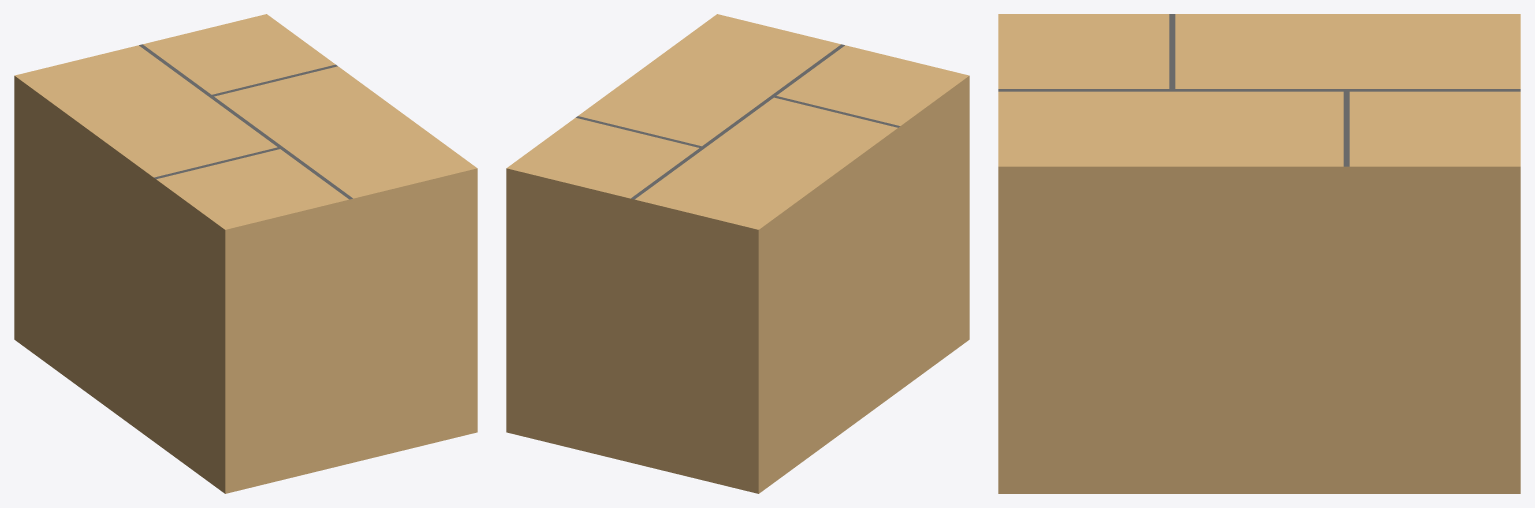
3 views of the same model, side by side, from view 1: azimuth 30°, elevation 25°; view 2: azimuth 150°, elevation 25°; view 3: azimuth 270°, elevation 25° (orthographic). The views are drawn at different scales.
Parts seen in each view (by area): view 1: Cube; view 2: Cube; view 3: Cube.
Part boxes in pixels (left/top/right/bottom): Cube: left=14, top=14, right=477, bottom=493; Cube: left=506, top=14, right=969, bottom=493; Cube: left=998, top=14, right=1520, bottom=493.
Size of the model in its own units: 20.19 by 20.19 by 29.21.
